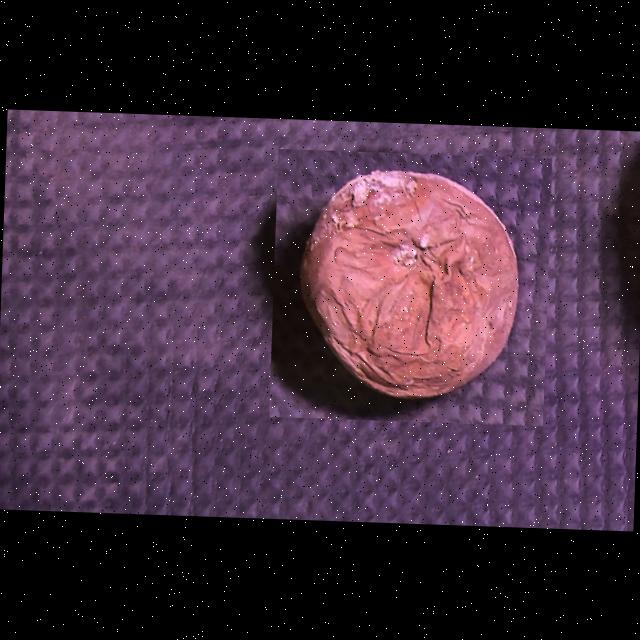Damaged potato: (268, 148, 552, 426)
